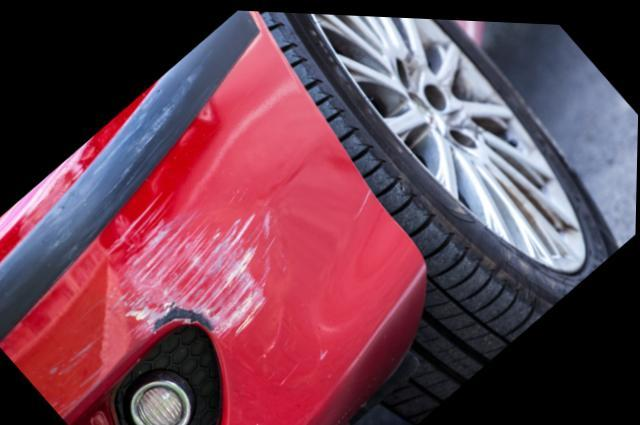scratch: (29, 187, 291, 418), (35, 54, 207, 257)
